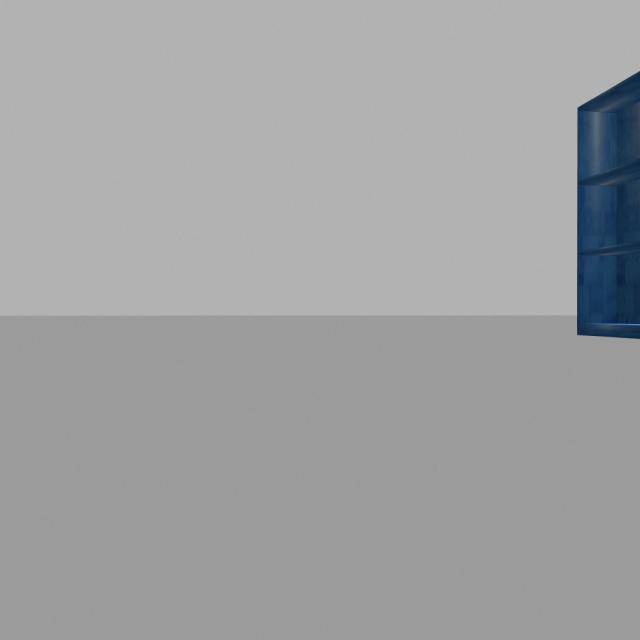shelf: (572, 65, 640, 357)
